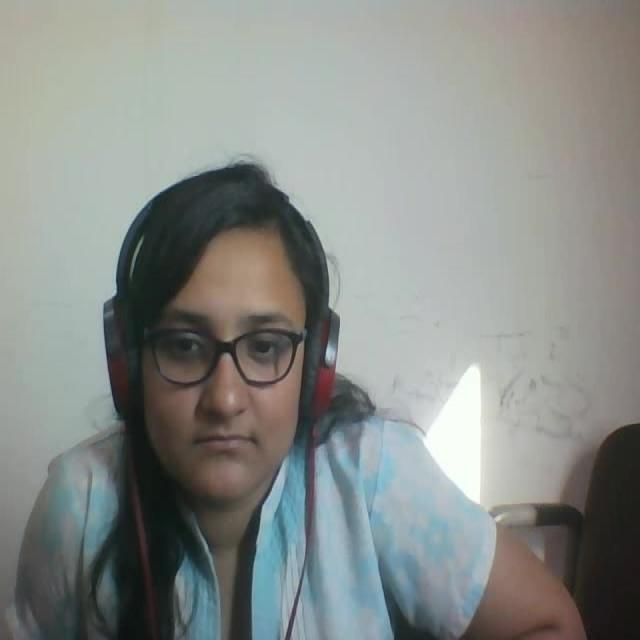Engaged: (89, 157, 360, 528)
